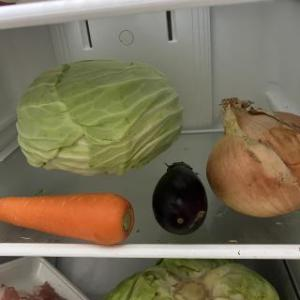cabbage: (14, 57, 184, 178), (96, 258, 282, 300)
carrot: (0, 190, 136, 248)
eggplant: (150, 160, 209, 236)
onion: (204, 96, 300, 219)
